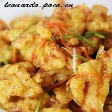guobaorou: (1, 7, 112, 112)
